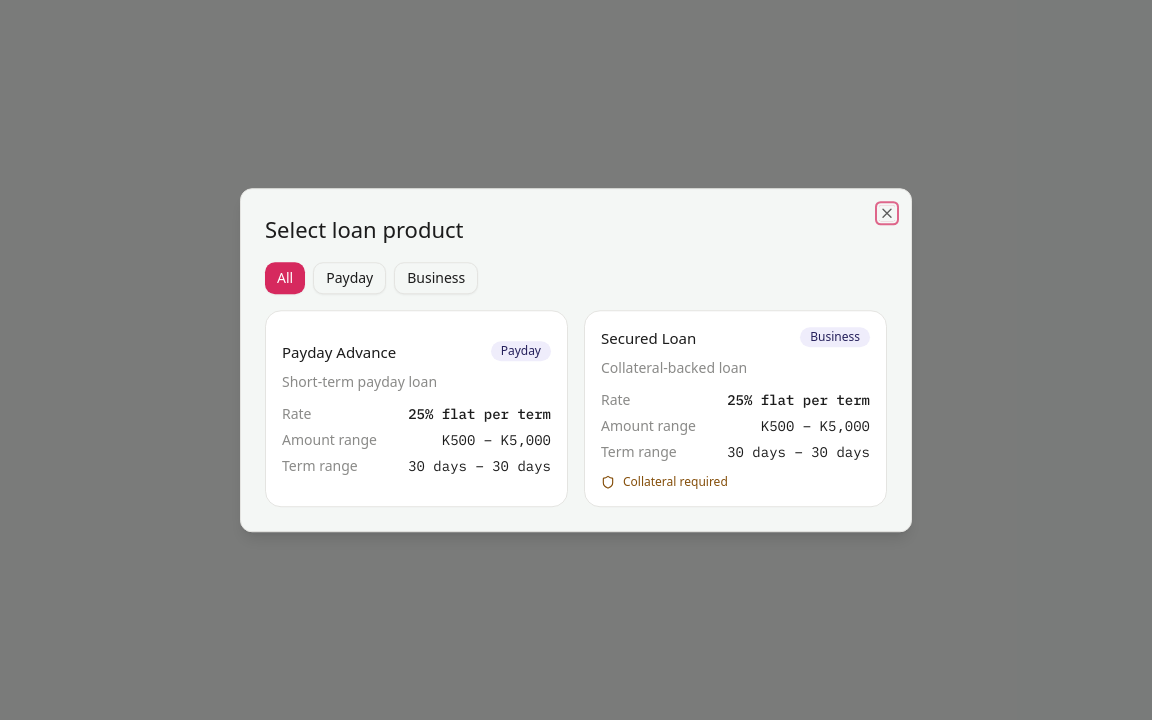
Scenario: ProductBasedLoanForm › renders the product with rate-with-basis text on selection
The image size is (1152, 720).
Click the heading "Payday Advance" at x=339, y=353, box [282, 341, 396, 364]
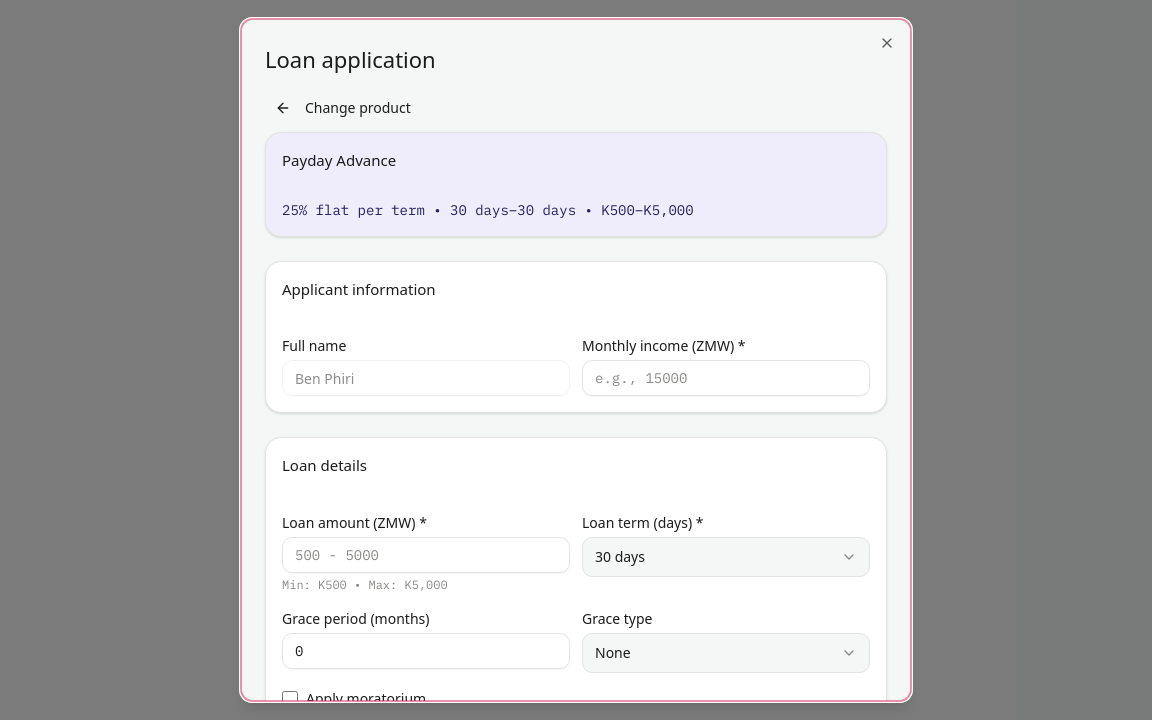
Expected: the text "25% flat per term • 30 days–30 days • K500–K5,000" is shown, [282, 200, 694, 218]
